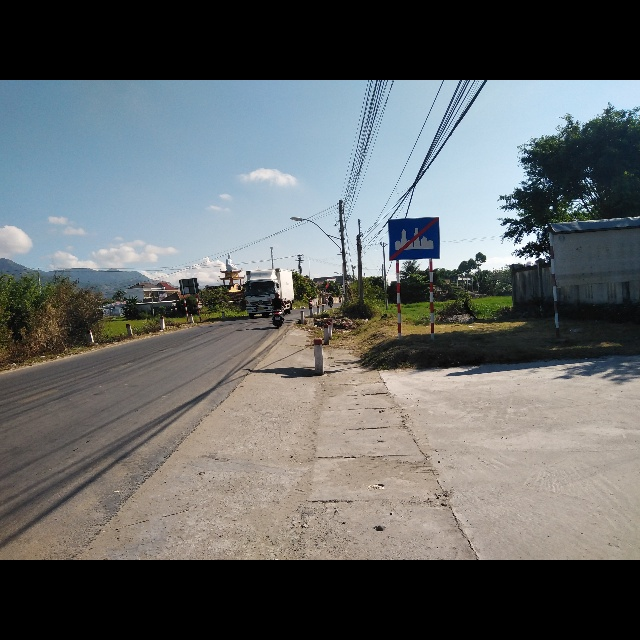Hết khu đông dân cư: (390, 217, 443, 260)
